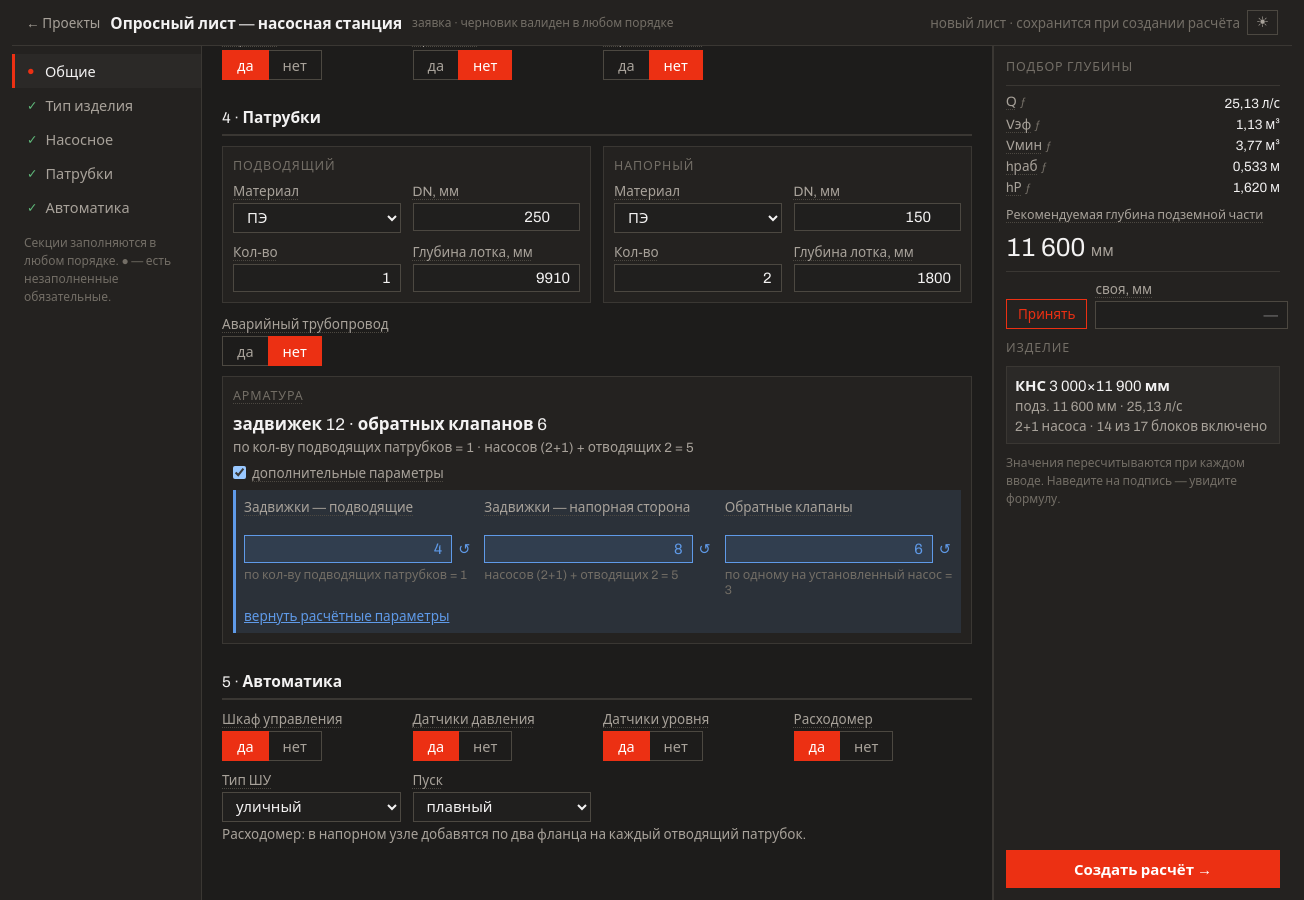
Test case: ОЛ КНС: дополнительные параметры и обязательная комплектация › арматура сохраняет скрытые изменения, а кнопка возвращает все расчётные количества
(page scrolled)
Check: the element with class "ol-card" does not show "ƒ"
Check: the text with class "ol-grade" reads "задвижек 12 · обратных клапанов 6", box [233,415,547,434]
Click the checkbox labelled "дополнительные параметры".
click(240, 473)  # box [233,466,246,479]
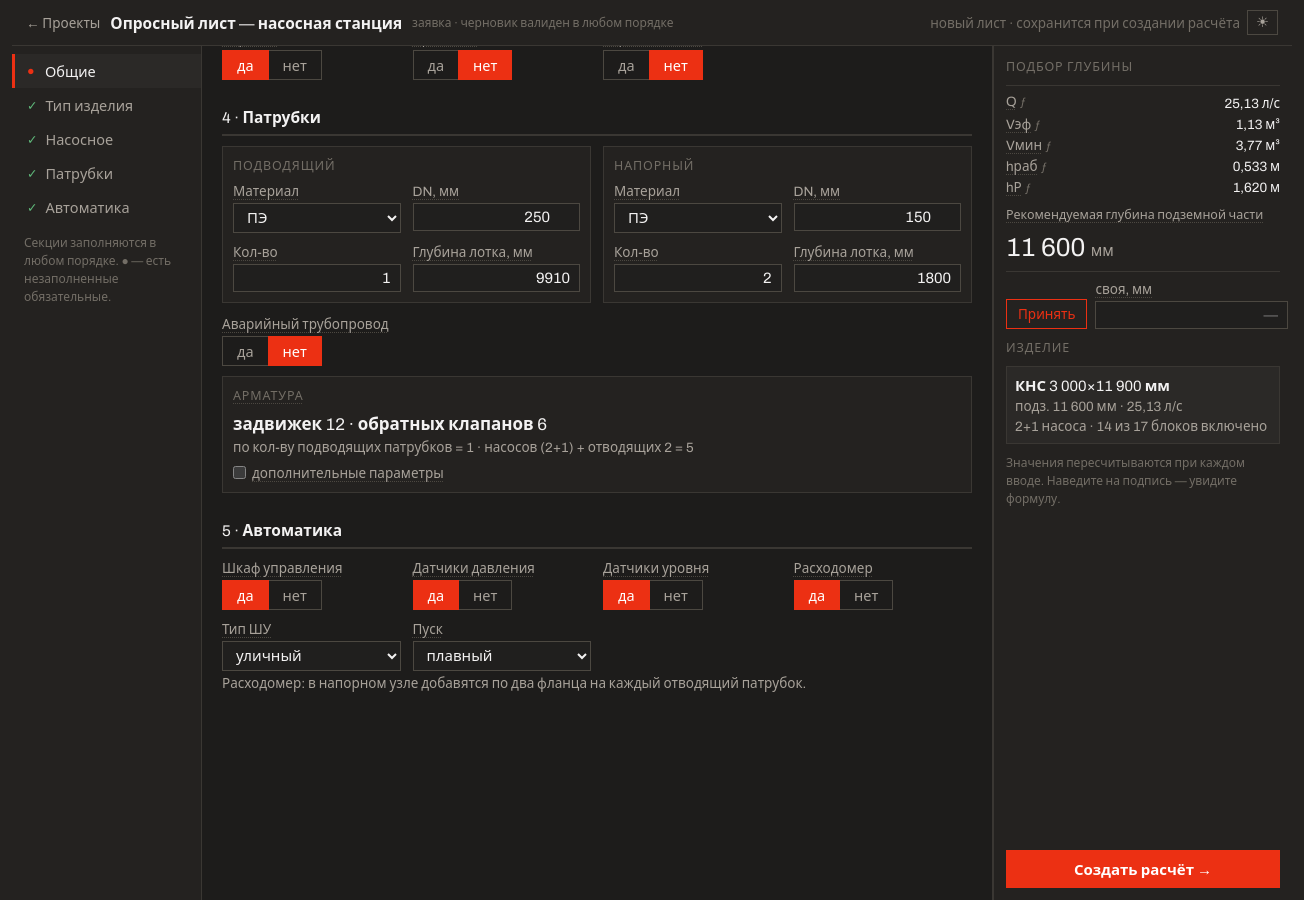
Check: the text with class "ol-grade" shows "задвижек 12", box [233,415,547,434]
Click the checkbox labelled "дополнительные параметры".
click(240, 473)  # box [233,466,246,479]
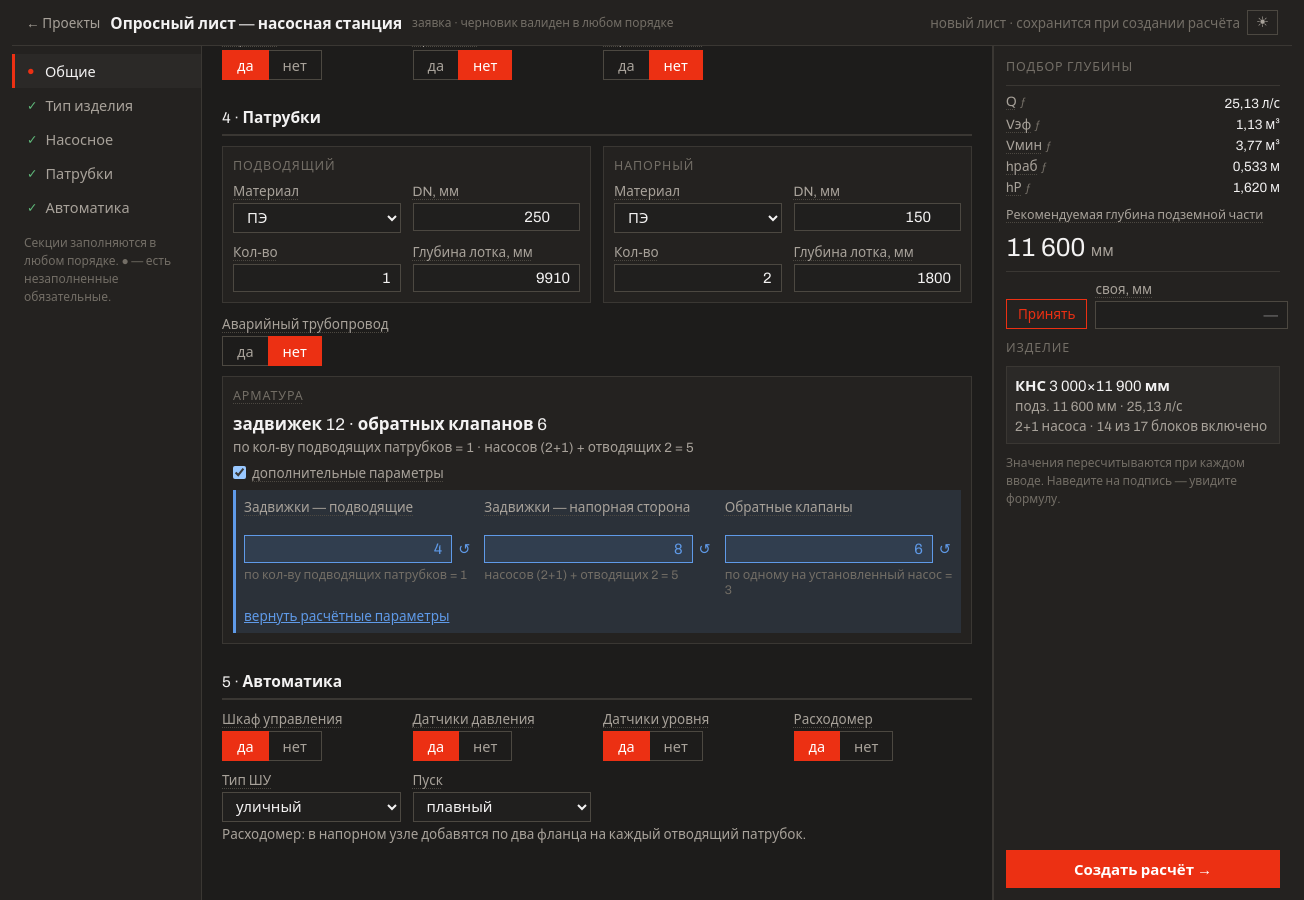
Click the button "вернуть расчётные параметры".
click(347, 616)  # box [244,607,450,625]
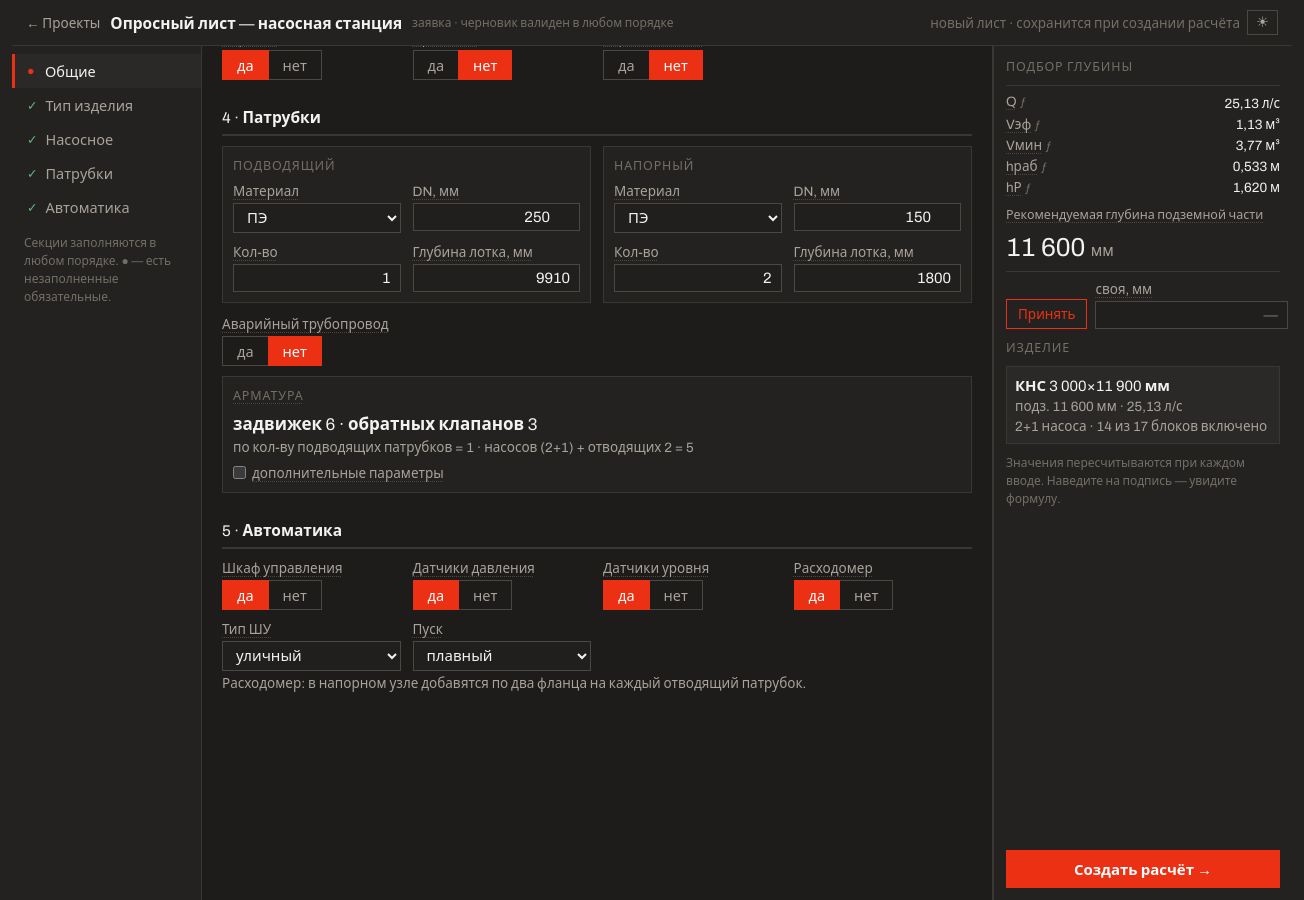
Check: the text with class "ol-grade" reads "задвижек 6 · обратных клапанов 3", box [233,415,537,434]
